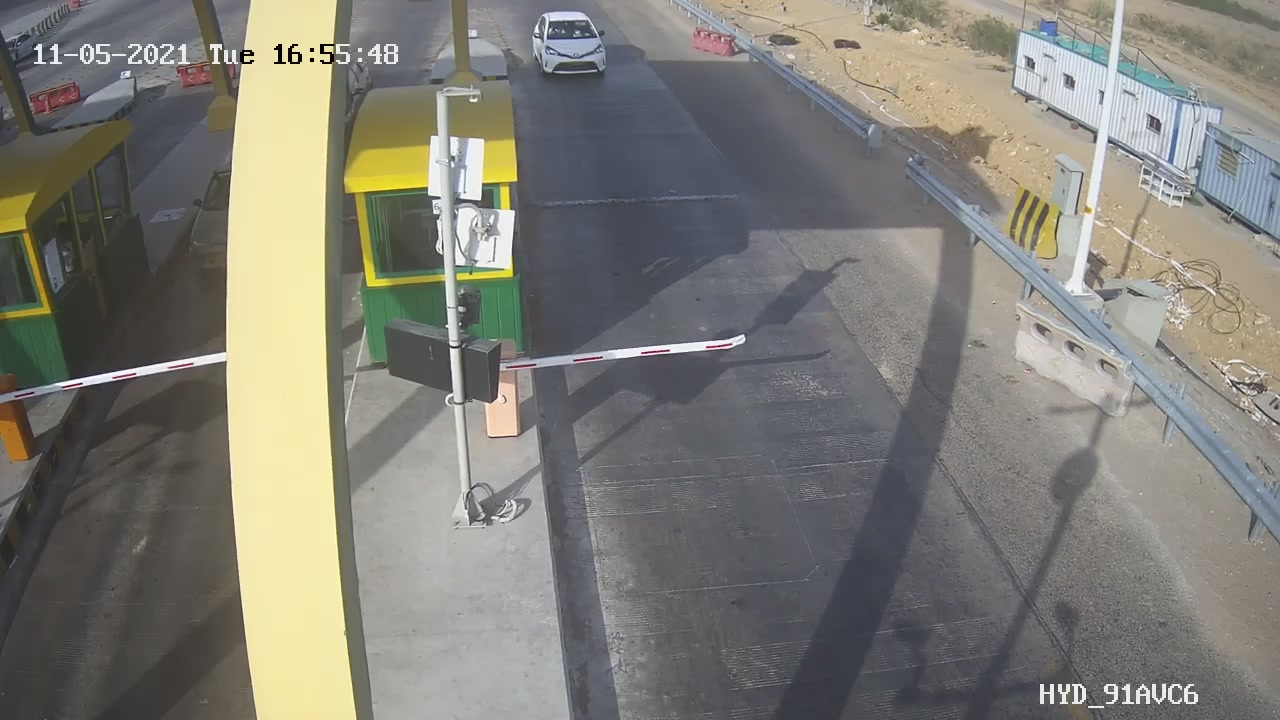F1: (520, 3, 625, 90)
